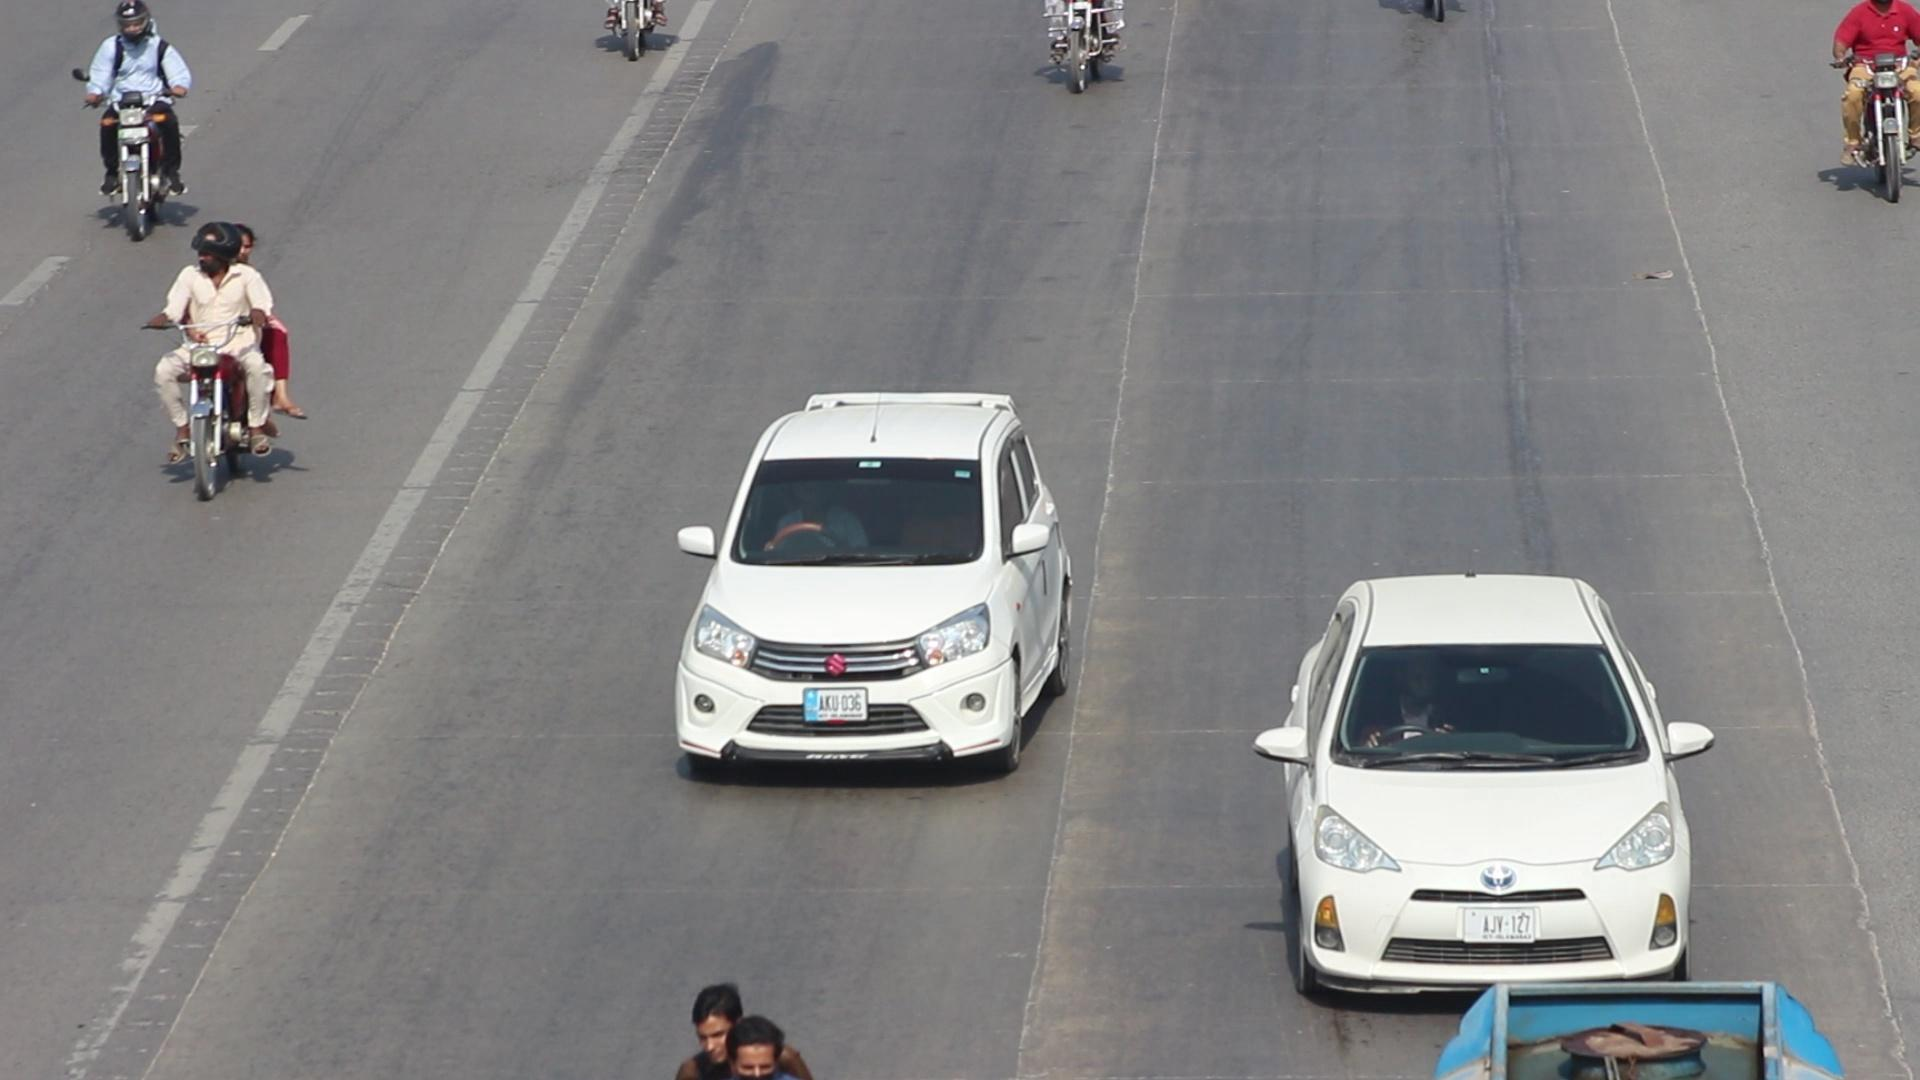windshield: (1327, 630, 1658, 773), (721, 443, 990, 576)
